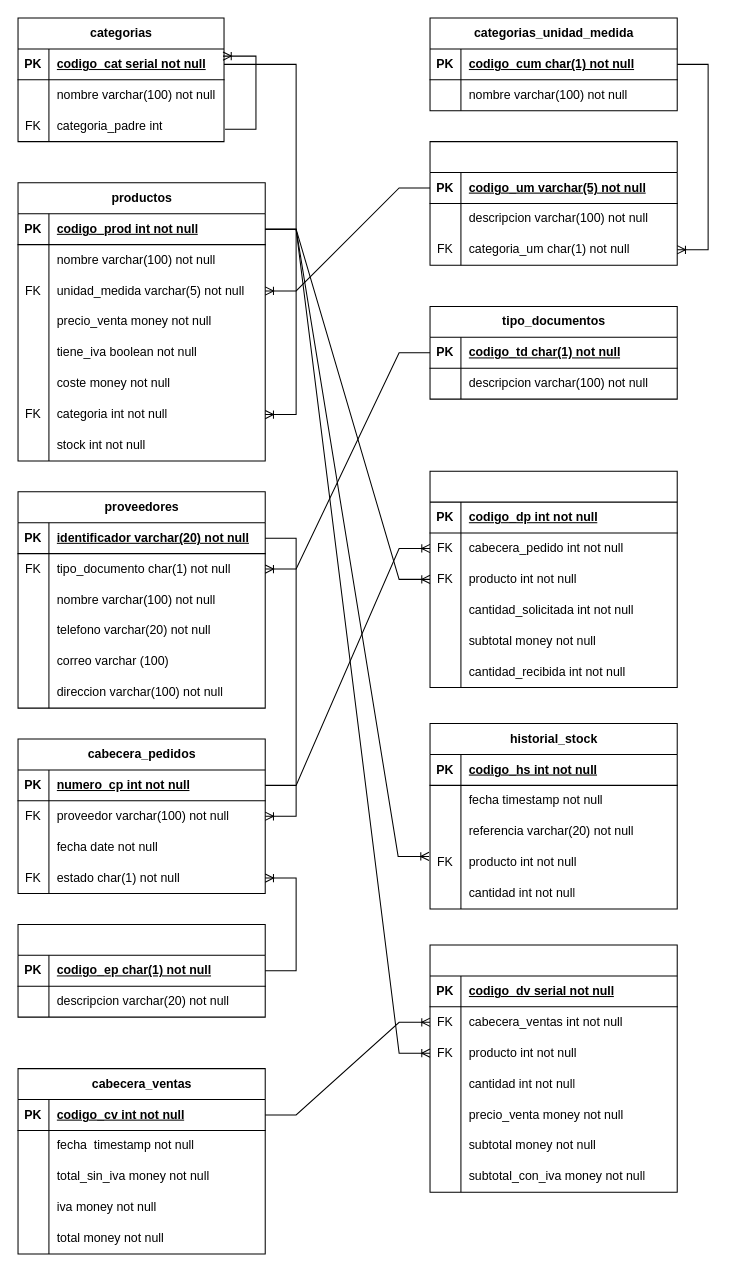
This 734x1272 diagram has some shape labels left out. The shapes that lost their labels are listed below. From the top down, each one's box as (x1, y1, x2, y2) in pixels, then its label:
(429, 141, 677, 265): unidades_medida
(429, 470, 677, 688): detalle_pedidos
(17, 923, 265, 1017): estados_pedidos
(429, 944, 677, 1192): detalle_ventas
